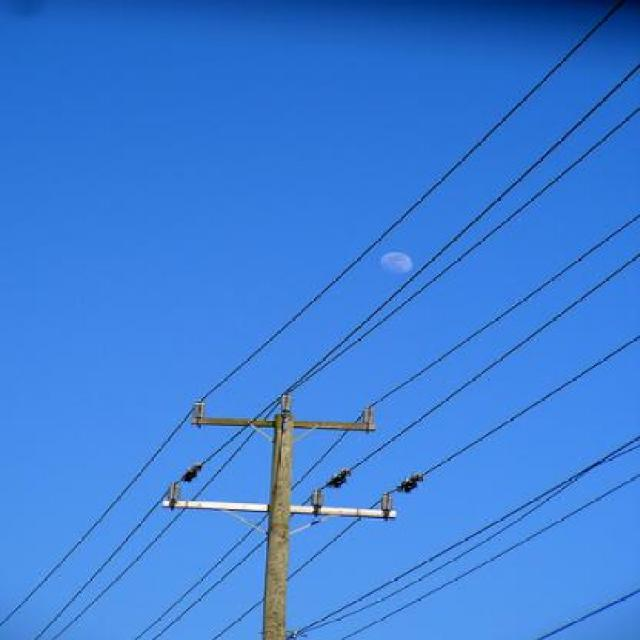pole: (144, 389, 393, 640)
